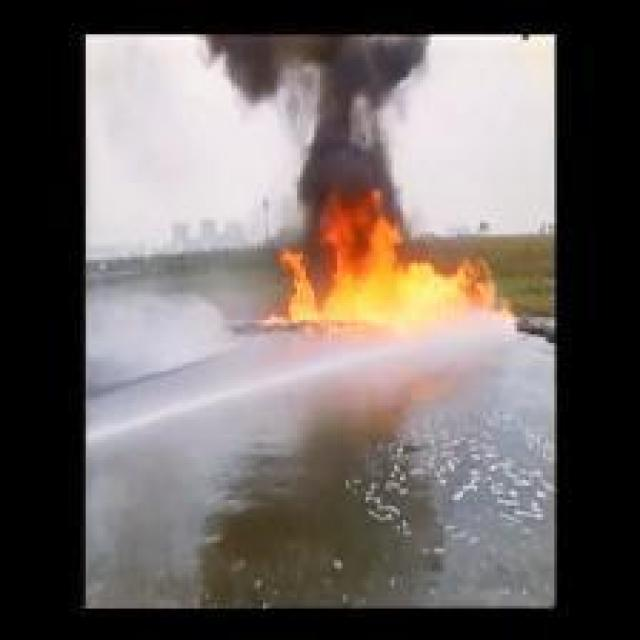fire: (268, 195, 504, 328)
smoke: (188, 33, 448, 219)
